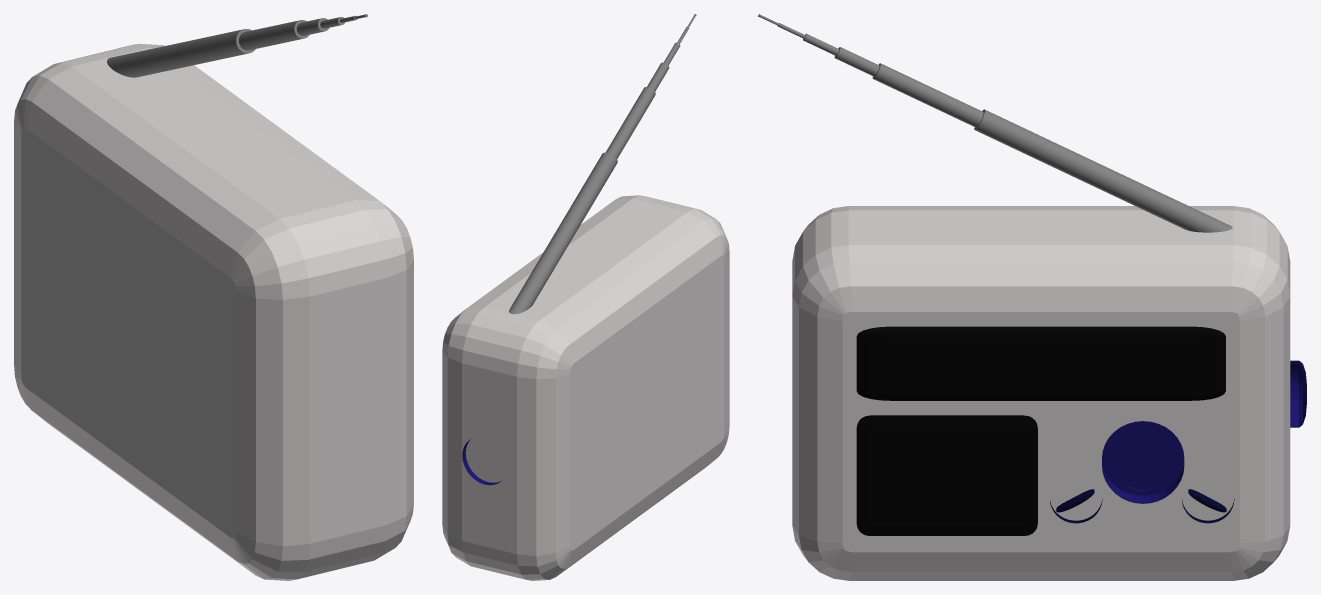
The model's file is radio.fbx.
3 renders of one model, left to right at view 1: azimuth 30°, elevation 25°; view 2: azimuth 150°, elevation 25°; view 3: azimuth 270°, elevation 25°, orthographic. The views are drawn at different scales.
Parts seen in each view (by area): view 1: radio base, antena; view 2: radio base, antena; view 3: radio base, screen, speaker, antena, middle button, side button.
Part boxes in pixels (x1,y1,x2,y2): radio base: (14, 43, 413, 580); antena: (107, 14, 367, 77); radio base: (442, 195, 729, 580); antena: (509, 14, 696, 314); radio base: (792, 206, 1290, 580); screen: (856, 326, 1225, 400); speaker: (856, 415, 1037, 535); antena: (758, 14, 1232, 232); middle button: (1102, 421, 1184, 503); side button: (1290, 360, 1306, 427).
Bounding box in the file's own units: 91.65 × 263 × 240.
